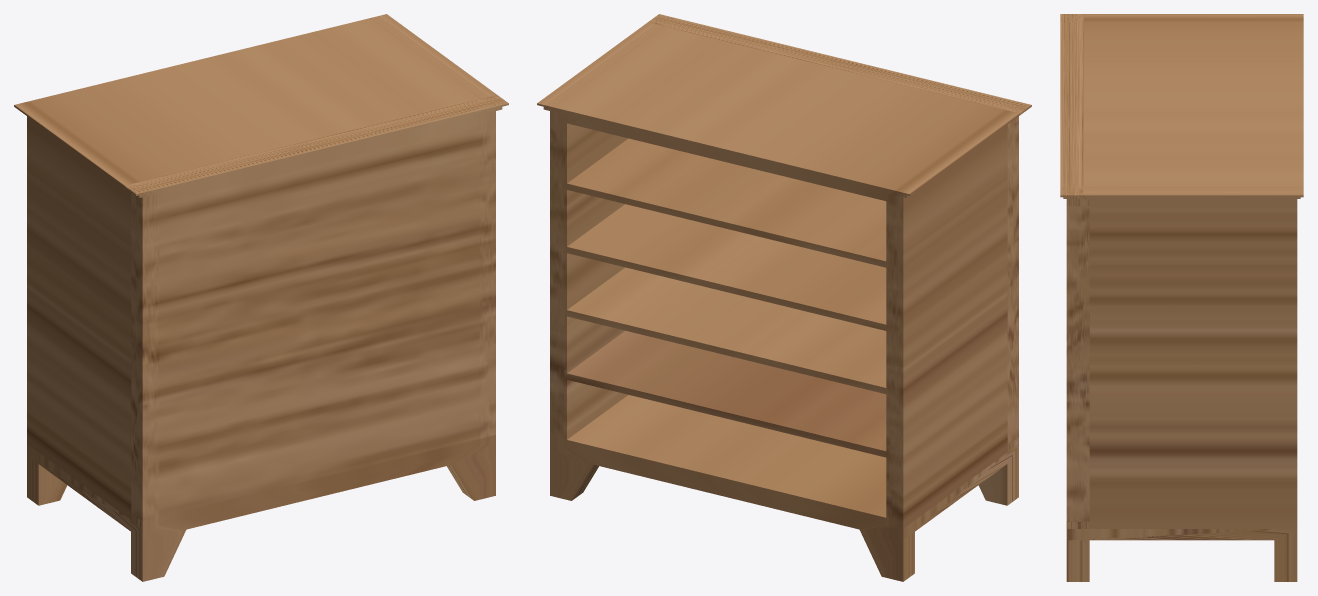
The model's file is Mueble2.fbx.
3 renders of one model, left to right at view 1: azimuth 30°, elevation 25°; view 2: azimuth 150°, elevation 25°; view 3: azimuth 270°, elevation 25°, orthographic.
Parts seen in each view (by area): view 1: pCube2; view 2: pCube2; view 3: pCube2.
Part boxes in pixels (x1,y1,x2,y2): pCube2: [14, 14, 508, 581]; pCube2: [537, 14, 1031, 581]; pCube2: [1060, 14, 1303, 581].
Size of the model in its own units: 9.22 by 9.27 by 5.23.
